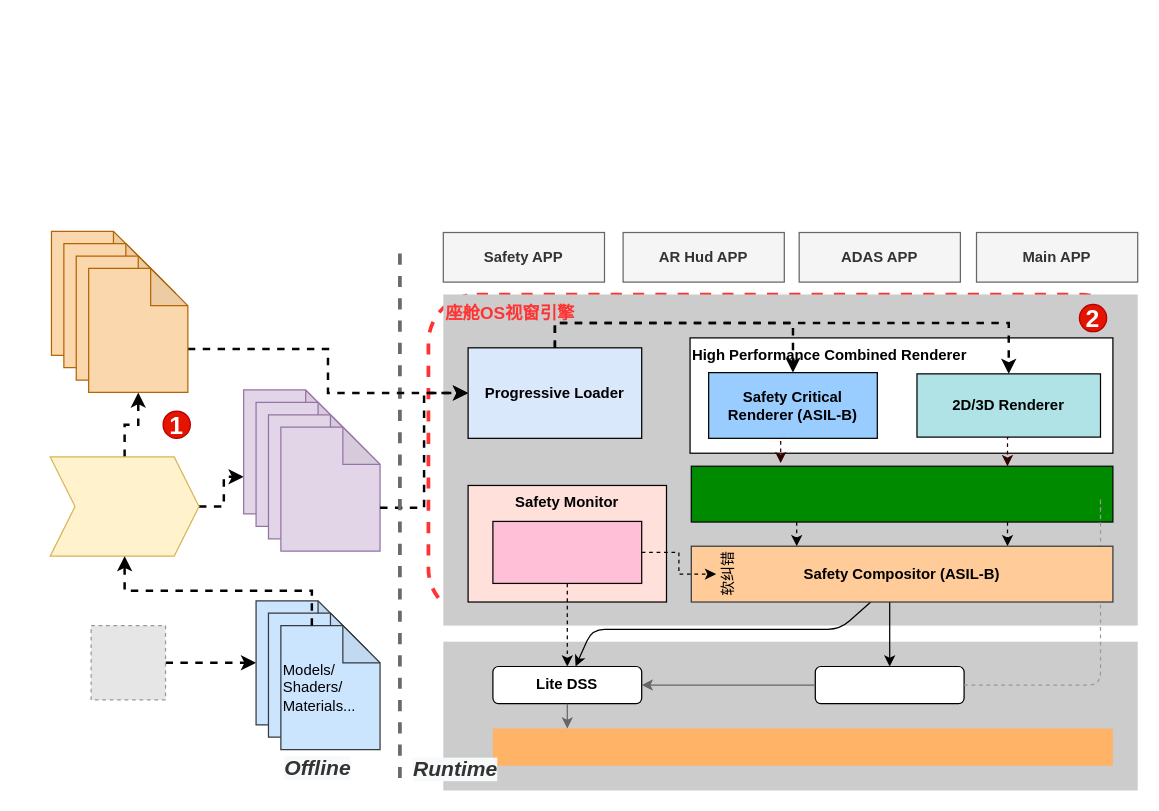
The diagram is 1159 pixels wide and 811 high, and some of its shapes have lost their labels. Grey dashed boxes stand in for pictures. Each missing label, with the box of its shape:
Auto Cluster& Compiling &SC Pipeline Compiling: (49, 456, 199, 556)
Car Dashboard Displayer: (492, 728, 1112, 765)
Cluster based Runtime Binaries: (280, 426, 380, 551)
Fault Correction: (492, 520, 642, 583)
GPU 0: (814, 665, 964, 704)
HISI SoC: (443, 641, 1137, 790)
SC Pipeline Cache Containers: (87, 267, 188, 392)
Unique Rendering Scheduler: (690, 465, 1113, 522)
